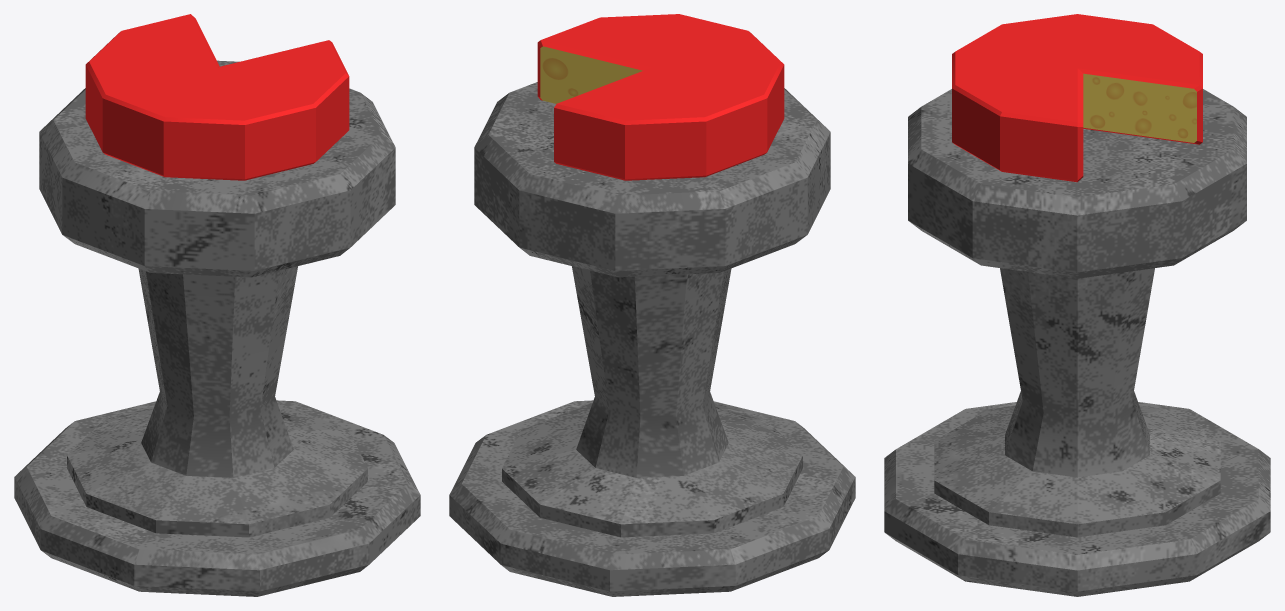
File: cheesePrize2.fbx
The picture shows the model from 3 angles, left to right: view 1: azimuth 30°, elevation 25°; view 2: azimuth 150°, elevation 25°; view 3: azimuth 270°, elevation 25°; orthographic projection.
Parts seen in each view (by area): view 1: polySurface356; view 2: polySurface356; view 3: polySurface356.
Boxes of the visible parts, <box> form: polySurface356: <box>14,14,420,596</box>; polySurface356: <box>449,14,855,596</box>; polySurface356: <box>884,14,1270,596</box>.
Bounding box in the file's own units: 30.82 × 37.5 × 29.31.
